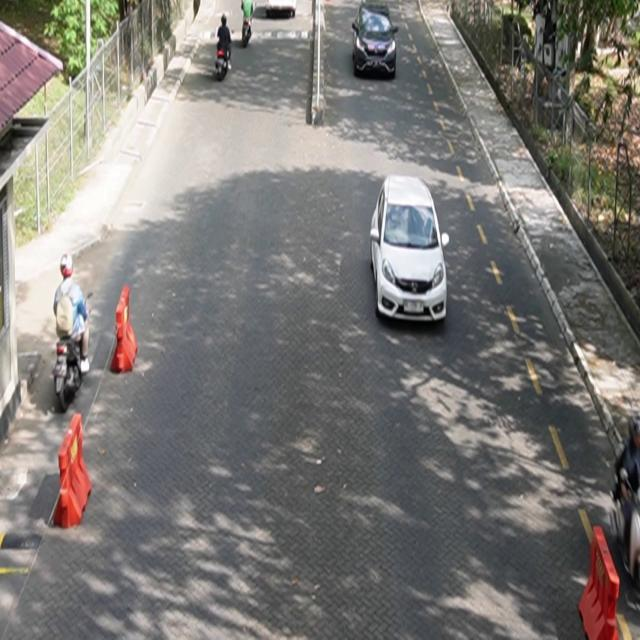car: (371, 175, 450, 325), (352, 2, 399, 80), (266, 1, 298, 19)
